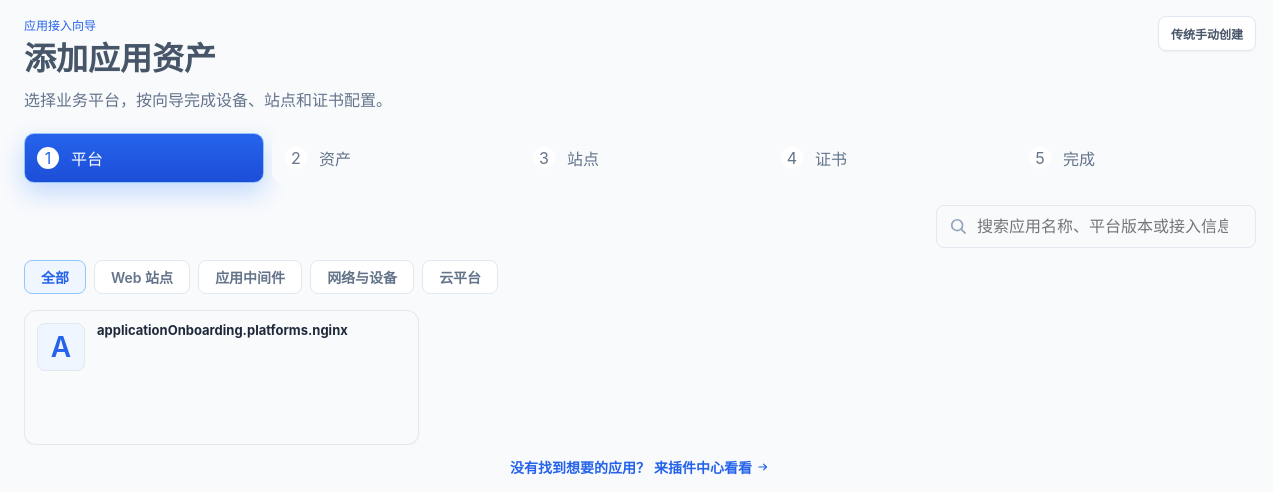
Test: ApplicationOnboardingView › 选择新增设备时交给统一设备向导，不向应用接入接口伪造设备输入
Click the button "A applicationOnboarding.platforms.nginx".
click(61, 346)  # box [24,310,419,444]
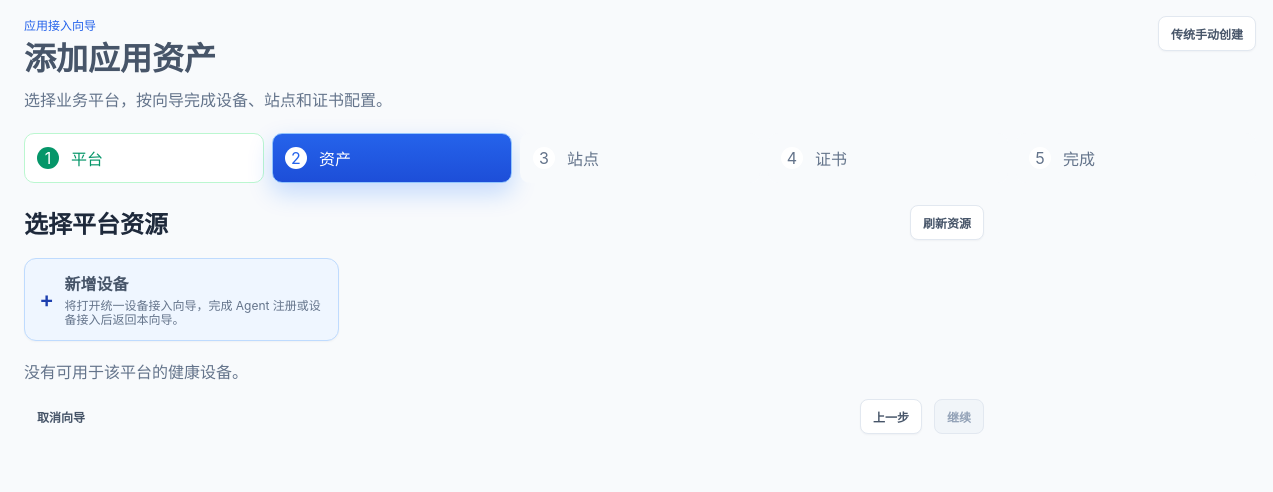
Click the button with class "onboarding-device-card--new".
click(181, 299)  # box [24,258,339,341]
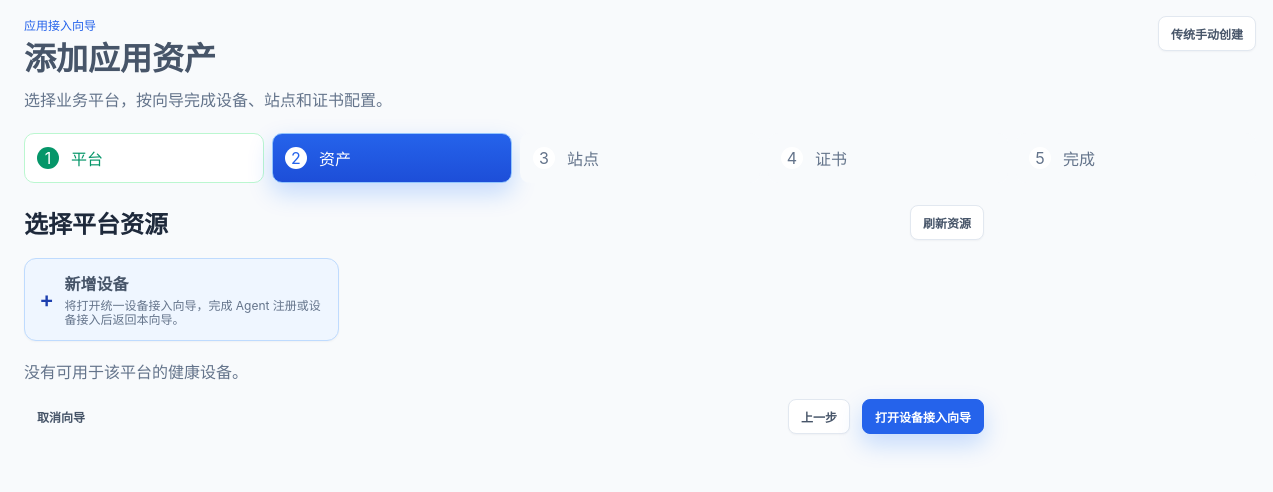
Now the text "打开设备接入向导" is shown, box [862,399,984,434]
